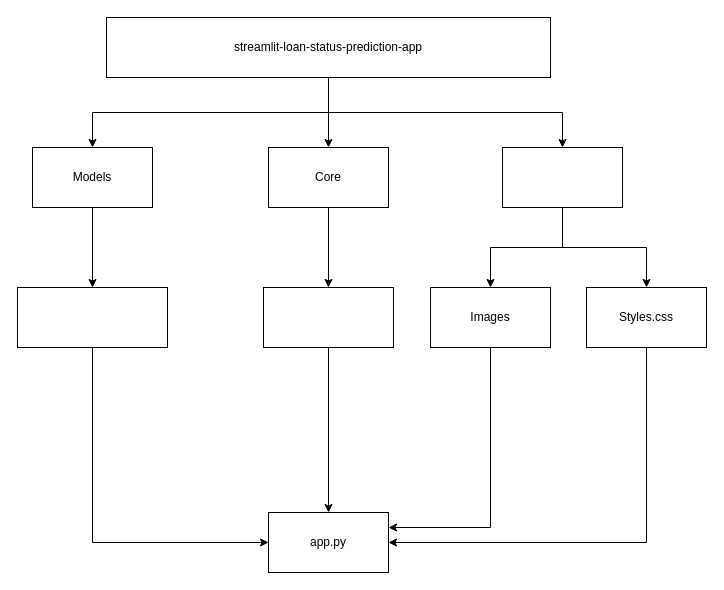
This 724x590 diagram has some shape labels left out. The centre of each missing label's shape, as x and y in pixels:
"Assests" goes at (562,177).
"Engine.py" goes at (328,317).
"xgb_loan_pipeline.pkl" goes at (92,317).
